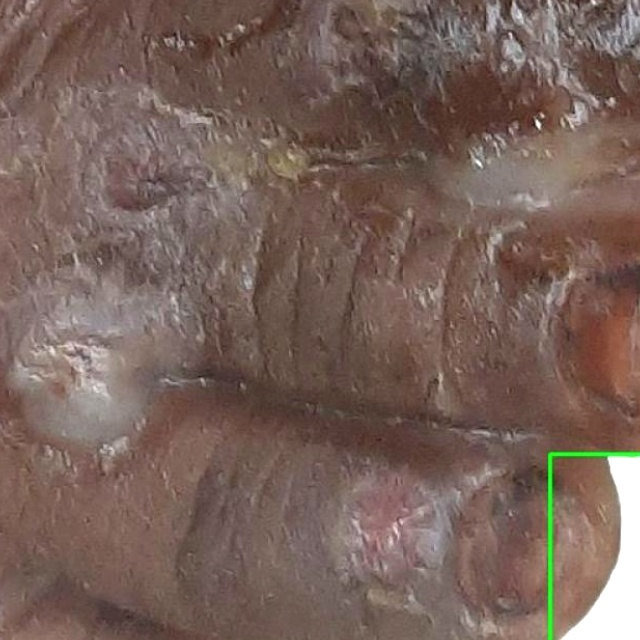Eczema: (550, 454, 639, 639)
